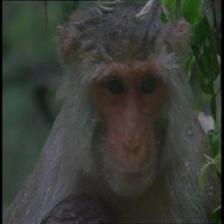monkey: (48, 0, 209, 206)
